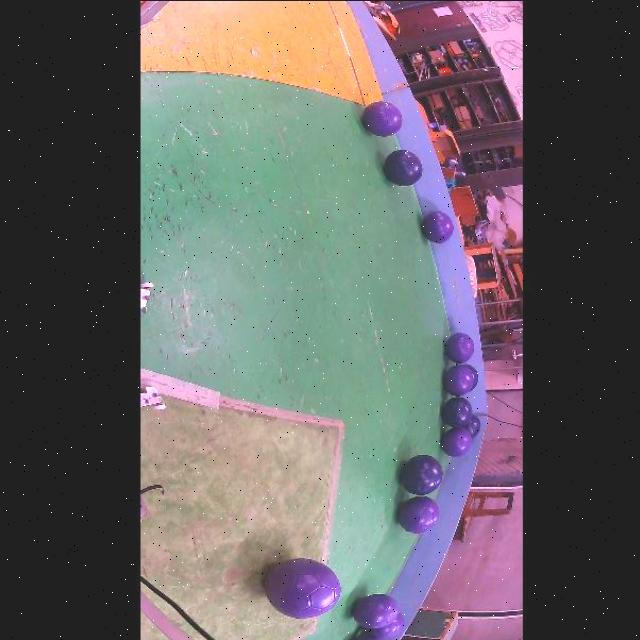B: (401, 453, 443, 494), (383, 149, 423, 185), (442, 396, 472, 427), (464, 363, 479, 391), (464, 415, 480, 437)
P: (264, 558, 341, 618), (351, 593, 398, 627), (398, 496, 439, 533), (362, 101, 402, 136), (364, 613, 405, 638), (422, 210, 454, 242), (443, 364, 474, 395), (444, 332, 474, 363), (440, 427, 472, 456), (350, 633, 381, 640)
